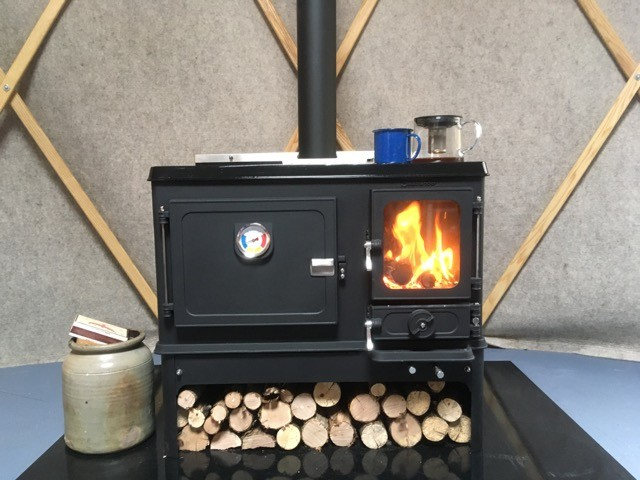stove: (141, 145, 484, 403)
